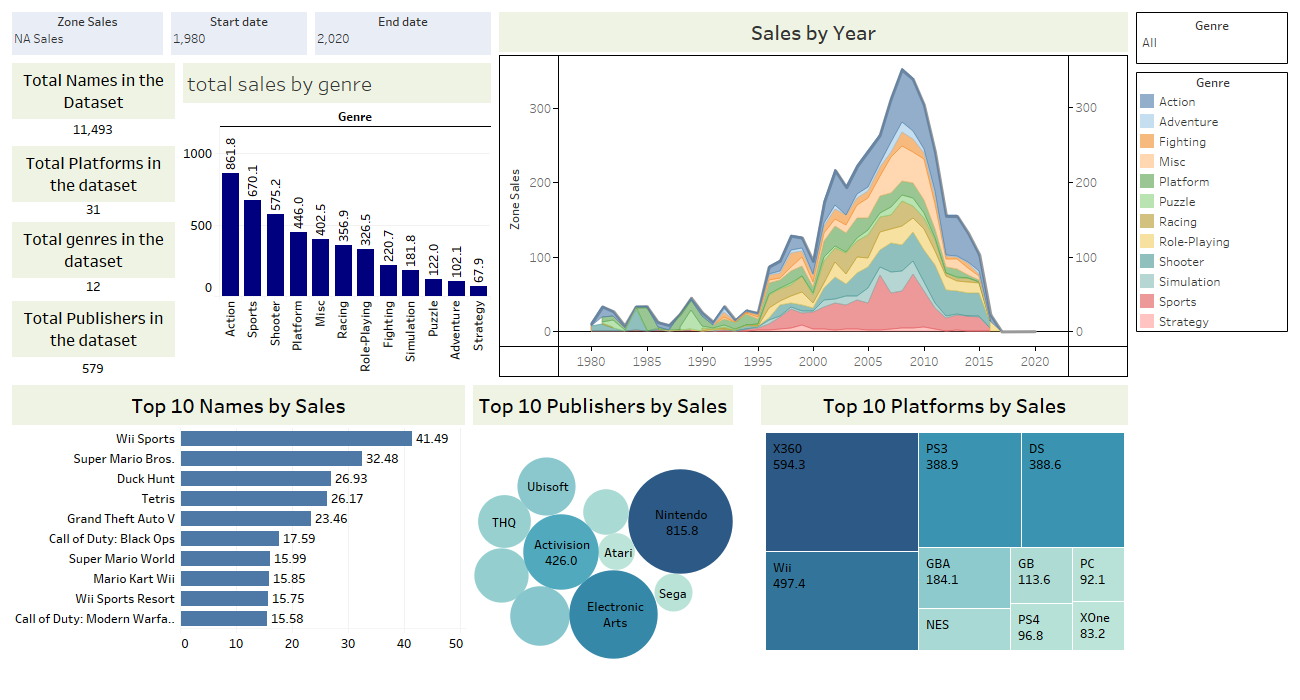

Layout of this report page (visuals, bound fields, positions):
{"tool":"tableau","page":{"name":"Dashboard 1","canvas":[1300,700],"ordinal":0},"visuals":[{"type":"parameter","param":"[Parameters].[Parameter 1]","box":[8,8,158.5,51]},{"type":"parameter","param":"[Parameters].[Parameter 2]","box":[166.5,8,144.5,51]},{"type":"parameter","param":"[Parameters].[Parameter 3]","box":[311,8,184,51]},{"type":"worksheet","title":"Sales by year","mark":"Automatic","rows":["Calculation_1176283946168201216","Calculation_1176283946168201216"],"cols":["Year"],"box":[495,8,637,373]},{"type":"filter","title":"Sales by year","param":"[federated.155hewb1wzkmw513qrjw7019eihk].[none:Genre:nk]","box":[1132,8,160,60]},{"type":"worksheet","title":"Total Names in the Dataset","mark":"Automatic","box":[8,59,171,83]},{"type":"worksheet","title":"total sales by genre","mark":"Automatic","rows":["Calculation_1176283946168201216"],"cols":["Genre"],"box":[179,59,316,322]},{"type":"legend","title":"Sales by year","param":"[federated.155hewb1wzkmw513qrjw7019eihk].[none:Genre:nk]","box":[1132,68,160,268]},{"type":"worksheet","title":"Total Platforms inthe data set","mark":"Automatic","box":[8,142,171,76]},{"type":"worksheet","title":"Total Genres in the dataset","mark":"Automatic","box":[8,218,171,79]},{"type":"worksheet","title":"Total publishers in the dataset","mark":"Automatic","box":[8,297,171,84]},{"type":"worksheet","title":"Top 10 Names by Sales","mark":"Automatic","rows":["Name"],"cols":["Calculation_1176283946168201216"],"box":[8,381,461,311]},{"type":"worksheet","title":"Top 10 Publishers by sales","mark":"Circle","box":[469,381,288.3,311]},{"type":"worksheet","title":"Top 10 Platforms by Sales","mark":"Automatic","box":[757.3,381,374.7,311]}]}

Visuals, with their boxes in screenshot pixels (x1, y1, x2, y2), scaled from the page's 1300x700 canvas onto the 1300x700 screenshot:
parameter: <bbox>8, 8, 166, 59</bbox>
parameter: <bbox>166, 8, 311, 59</bbox>
parameter: <bbox>311, 8, 495, 59</bbox>
"Sales by year" worksheet: <bbox>495, 8, 1132, 381</bbox>
"Sales by year" filter: <bbox>1132, 8, 1292, 68</bbox>
"Total Names in the Dataset" worksheet: <bbox>8, 59, 179, 142</bbox>
"total sales by genre" worksheet: <bbox>179, 59, 495, 381</bbox>
"Sales by year" legend: <bbox>1132, 68, 1292, 336</bbox>
"Total Platforms inthe data set" worksheet: <bbox>8, 142, 179, 218</bbox>
"Total Genres in the dataset" worksheet: <bbox>8, 218, 179, 297</bbox>
"Total publishers in the dataset" worksheet: <bbox>8, 297, 179, 381</bbox>
"Top 10 Names by Sales" worksheet: <bbox>8, 381, 469, 692</bbox>
"Top 10 Publishers by sales" worksheet (Circle marks): <bbox>469, 381, 757, 692</bbox>
"Top 10 Platforms by Sales" worksheet: <bbox>757, 381, 1132, 692</bbox>
